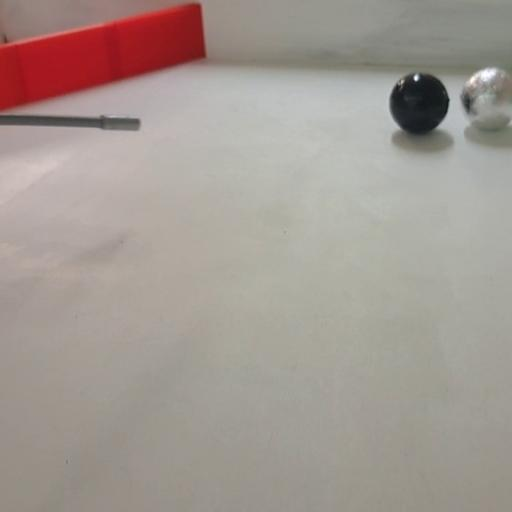alive: (458, 67, 512, 131)
dead: (388, 72, 451, 135)
